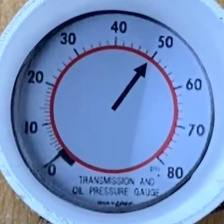gauge: (12, 12, 213, 213)
